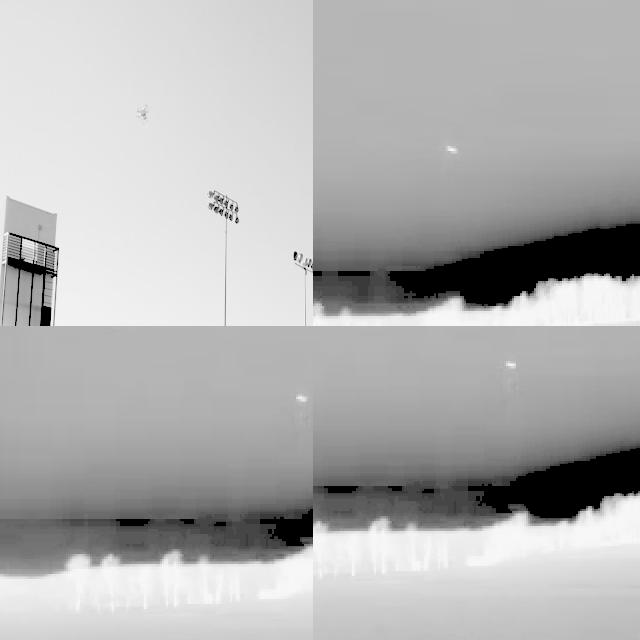1: (491, 348, 531, 394), (282, 381, 313, 426), (434, 136, 470, 174)
drone: (128, 105, 152, 130)
